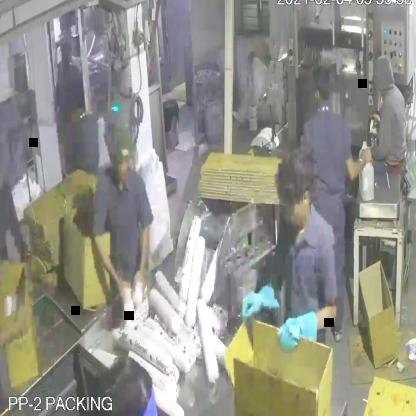glove: (276, 302, 327, 356), (235, 278, 281, 329)
no_glove: (88, 224, 132, 315), (133, 212, 158, 318), (344, 144, 372, 184)
